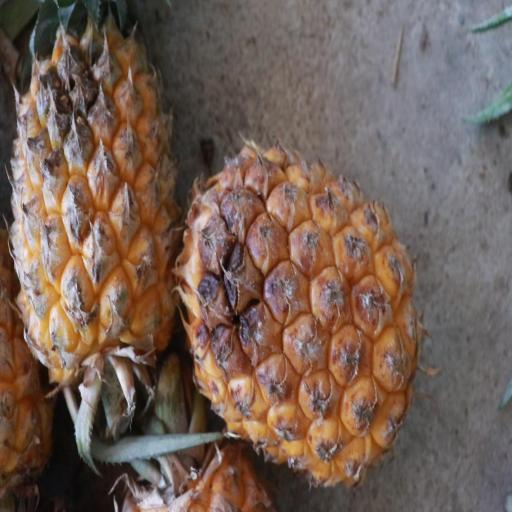Pineapple - v8 v1: (174, 134, 422, 489), (7, 0, 185, 402)
